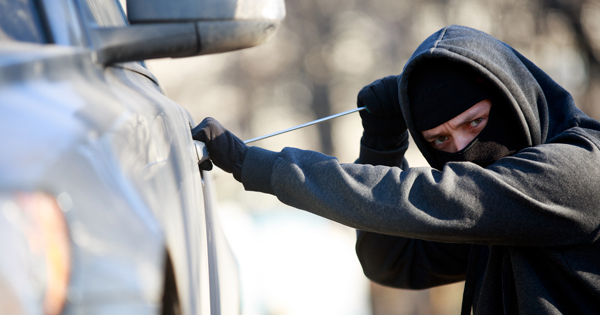thief: (167, 21, 551, 235), (353, 17, 532, 206)
